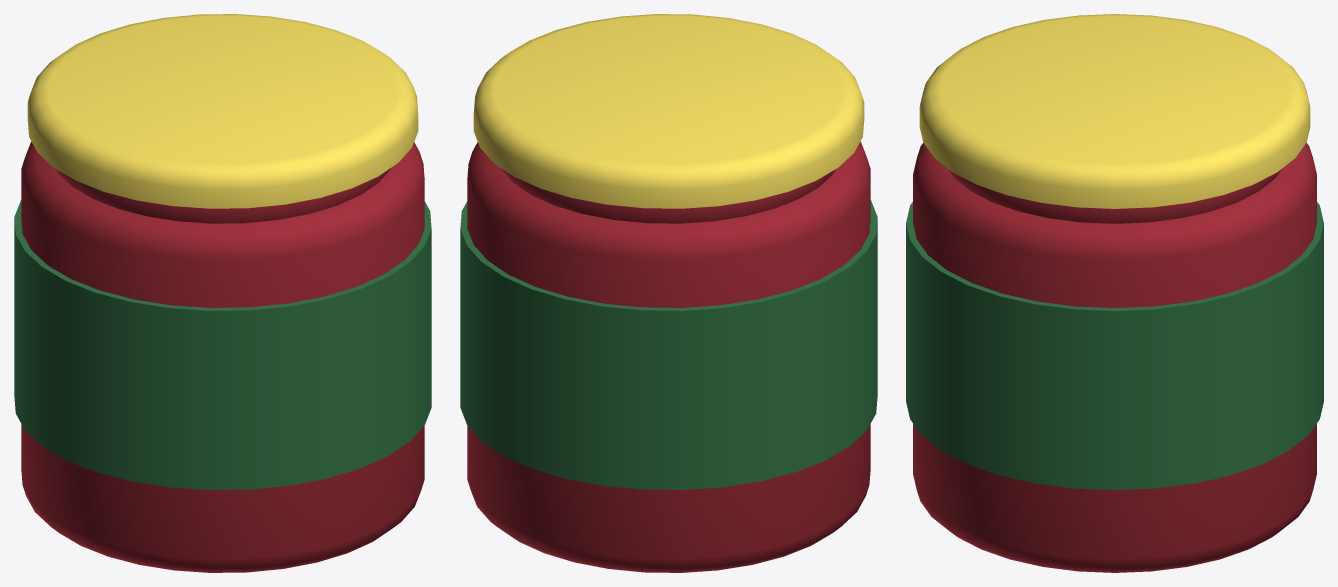
The model's file is Jar.fbx.
3 renders of one model, left to right at view 1: azimuth 30°, elevation 25°; view 2: azimuth 150°, elevation 25°; view 3: azimuth 270°, elevation 25°, orthographic.
Parts seen in each view (by area): view 1: Cylinder; view 2: Cylinder; view 3: Cylinder.
Boxes of the visible parts, left/top/right/bottom form: Cylinder: left=14, top=14, right=431, bottom=572; Cylinder: left=460, top=14, right=877, bottom=572; Cylinder: left=906, top=14, right=1323, bottom=572.
Size of the model in its own units: 130 by 139 by 130.
